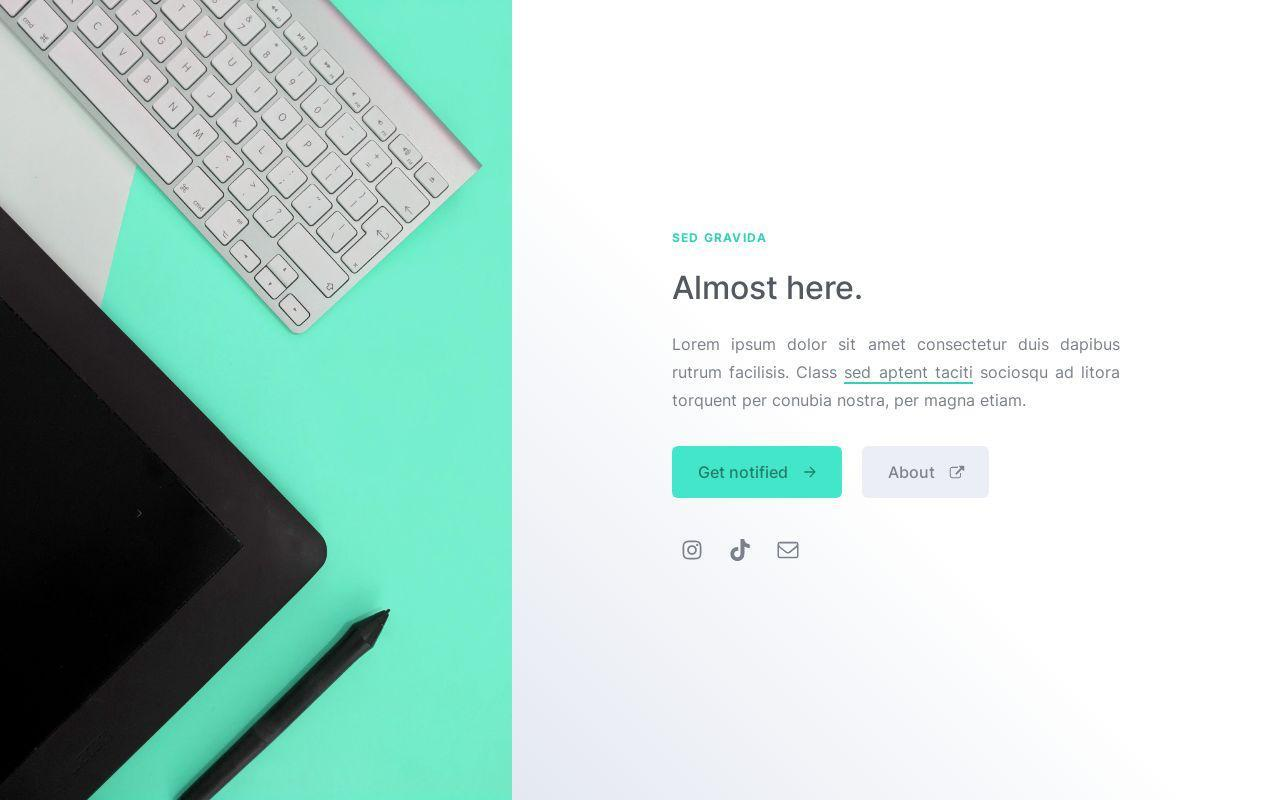button: (674, 446, 841, 500), (865, 449, 991, 500)
icon: (773, 535, 806, 566), (680, 537, 706, 563), (726, 539, 752, 563)
